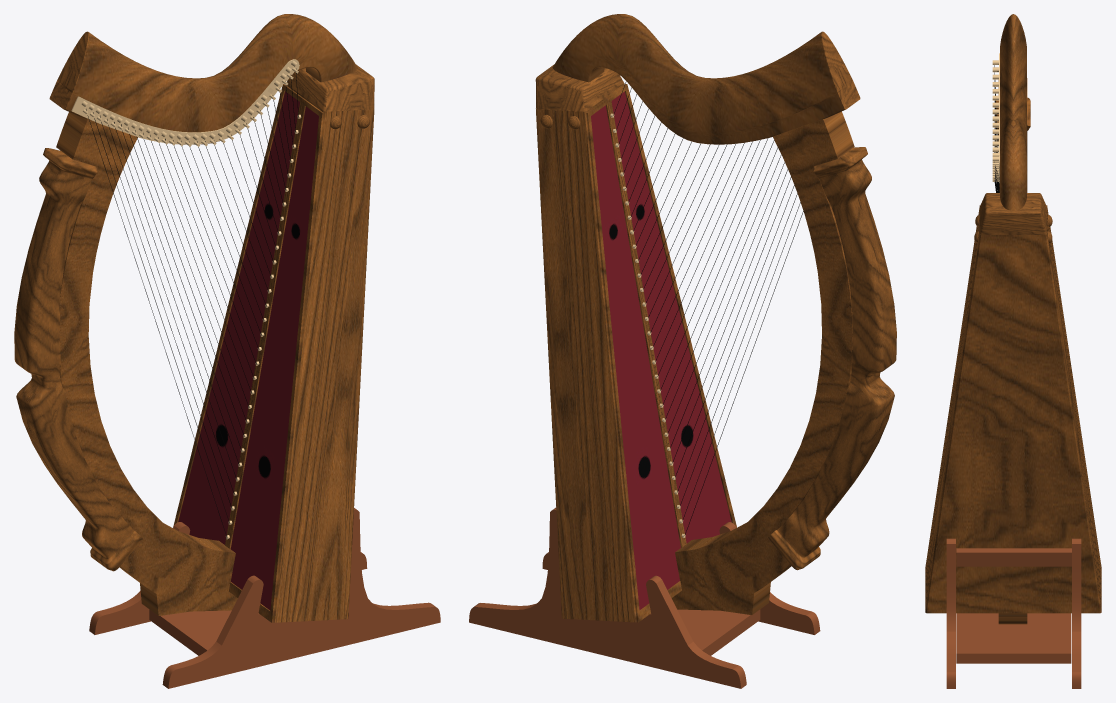
File: harpa.glb
3 renders of one model, left to right at view 1: azimuth 30°, elevation 25°; view 2: azimuth 150°, elevation 25°; view 3: azimuth 270°, elevation 25°, orthographic. The views are drawn at different scales.
Visible parts, largest first — view 1: S_box, S_board, Pillar, Pillar_d, H_curve, Stand01, S_edge, S_mid, S_top, peg_brd, Stand04, Stand02 (+1 smaller); view 2: S_box, S_board, Pillar, H_curve, Pillar_d, Stand02, S_edge, S_mid, S_top, Stand04, Stand01, H_end; view 3: S_box, Stand04, H_curve, S_top, Stand03, Stand01, Stand02, Pillar, S_edge.
Part boxes in pixels (<box>): S_box: <box>273,85,374,622</box>; S_board: <box>178,91,318,610</box>; Pillar: <box>56,112,237,615</box>; Pillar_d: <box>14,148,142,571</box>; H_curve: <box>65,14,357,144</box>; Stand01: <box>162,508,440,688</box>; S_edge: <box>173,84,323,622</box>; S_mid: <box>225,102,305,548</box>; S_top: <box>287,64,374,111</box>; peg_brd: <box>71,59,299,144</box>; Stand04: <box>149,609,231,655</box>; Stand02: <box>89,522,367,634</box>; S_box: <box>536,83,636,622</box>; S_board: <box>591,91,731,609</box>; Pillar: <box>671,111,854,614</box>; H_curve: <box>552,14,844,144</box>; Pillar_d: <box>768,147,896,570</box>; Stand02: <box>469,507,746,688</box>; S_edge: <box>586,84,736,622</box>; S_mid: <box>606,101,686,547</box>; S_top: <box>535,64,624,111</box>; Stand04: <box>677,609,760,655</box>; Stand01: <box>542,522,820,634</box>; H_end: <box>821,31,860,109</box>; S_box: <box>925,206,1101,613</box>; Stand04: <box>956,613,1071,663</box>; H_curve: <box>1000,14,1026,210</box>; S_top: <box>979,193,1046,234</box>; Stand03: <box>956,548,1071,566</box>; Stand01: <box>946,538,955,688</box>; Stand02: <box>1072,538,1081,688</box>; Pillar: <box>998,78,1027,624</box>; S_edge: <box>925,205,1101,568</box>.
Bounding box in the file's own units: 1.12 × 1.8 × 0.5288.
Materials: 6 (3 with a texture image).
